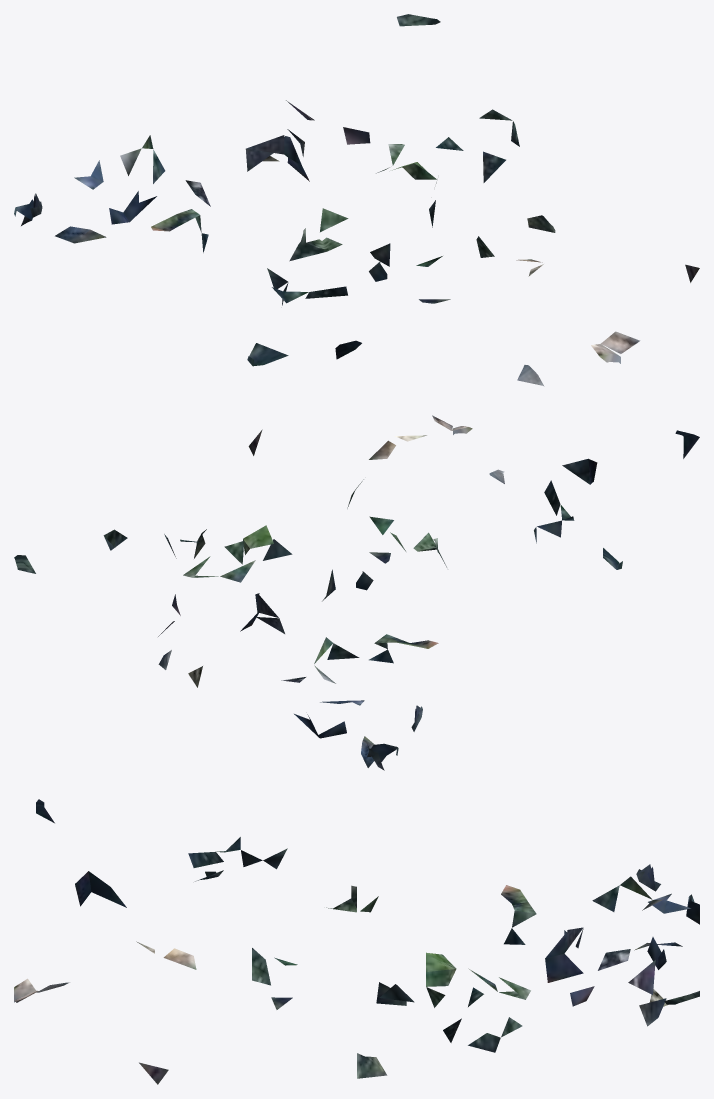
3 views of the same model, one above another, from view 1: azimuth 30°, elevation 25°; view 2: azimuth 150°, elevation 25°; view 3: azimuth 270°, elevation 25° (orthographic). The views are drawn at different scales.
Parts seen in each view (by area): view 1: 30436272704361705500_1; view 2: 30436272704361705500_1; view 3: 30436272704361705500_1.
Part boxes in pixels (x1,y1,x2,y2): 30436272704361705500_1: [14, 14, 699, 386]; 30436272704361705500_1: [14, 415, 699, 770]; 30436272704361705500_1: [14, 799, 699, 1084].
Size of the model in its own units: 27.16 by 8.02 by 38.26.
Materials: 1 (1 with a texture image).
